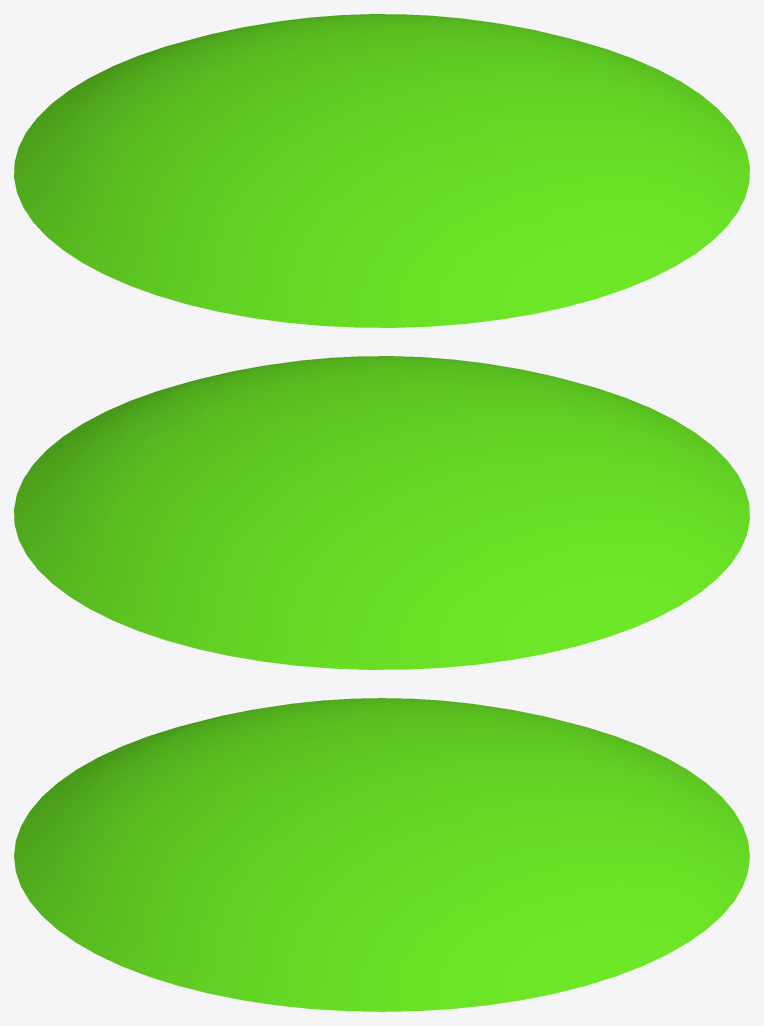
File: Arc.glb
3 views of the same model, one above another, from view 1: azimuth 30°, elevation 25°; view 2: azimuth 150°, elevation 25°; view 3: azimuth 270°, elevation 25° (orthographic).
Parts seen in each view (by area): view 1: Arc_Level 1, Arc_Level 5, Arc_Level 3, Arc_Level 4, Arc_Level 2; view 2: Arc_Level 1, Arc_Level 5, Arc_Level 4, Arc_Level 3, Arc_Level 2; view 3: Arc_Level 1, Arc_Level 5, Arc_Level 4, Arc_Level 3, Arc_Level 2.
Part boxes in pixels (x1,y1,x2,y2): Arc_Level 1: [14, 14, 749, 327]; Arc_Level 5: [84, 16, 749, 263]; Arc_Level 3: [180, 25, 596, 169]; Arc_Level 4: [126, 15, 667, 226]; Arc_Level 2: [280, 43, 532, 148]; Arc_Level 1: [14, 356, 749, 669]; Arc_Level 5: [68, 357, 694, 654]; Arc_Level 4: [104, 357, 587, 609]; Arc_Level 3: [177, 370, 547, 526]; Arc_Level 2: [257, 387, 505, 491]; Arc_Level 1: [14, 698, 749, 1011]; Arc_Level 5: [101, 700, 749, 999]; Arc_Level 4: [115, 703, 716, 927]; Arc_Level 3: [214, 711, 591, 890]; Arc_Level 2: [257, 737, 521, 850].
Size of the model in its own units: 14.34 by 1.74 by 14.34.
